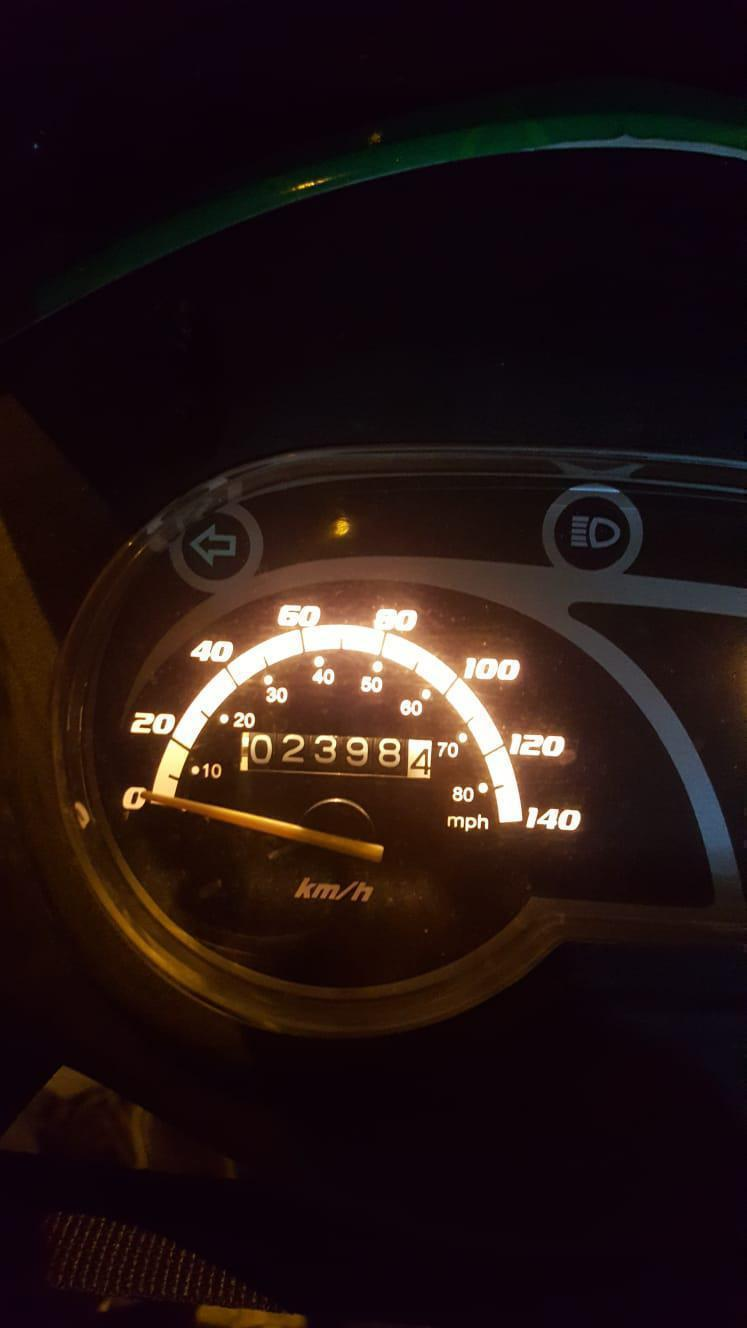0: (249, 732, 273, 767)
2: (279, 731, 306, 767)
3: (312, 732, 337, 765)
4: (408, 737, 433, 777)
8: (376, 735, 403, 769)
9: (343, 734, 370, 768)
odometer: (236, 730, 434, 781)
